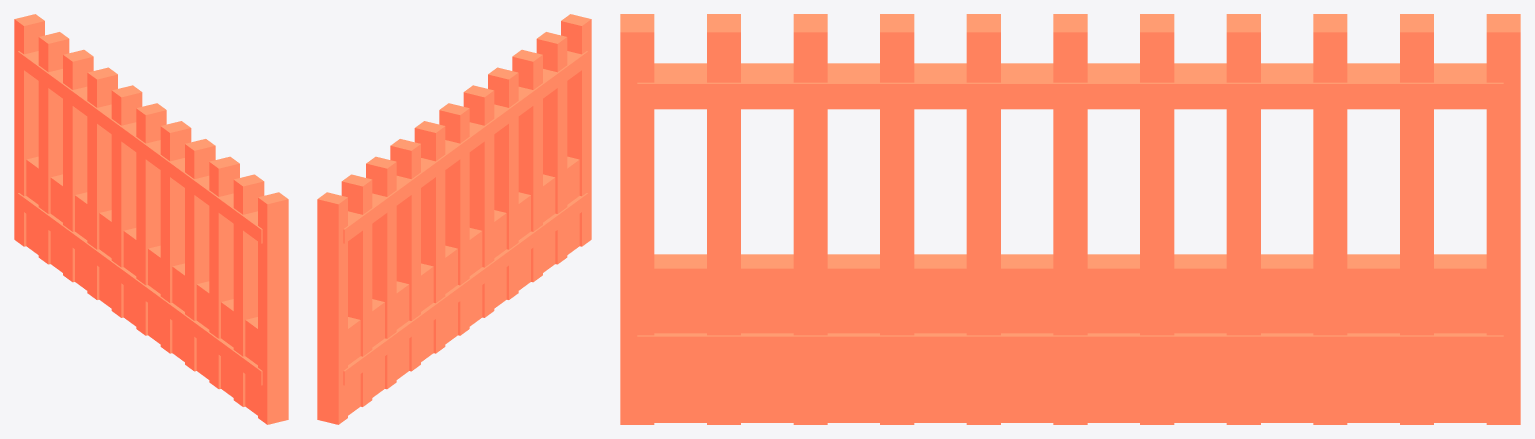
Rendered from SM_R02B_Gate_2_to_3.fbx.
3 views of the same model, side by side, from view 1: azimuth 30°, elevation 25°; view 2: azimuth 150°, elevation 25°; view 3: azimuth 270°, elevation 25° (orthographic). The views are drawn at different scales.
Parts seen in each view (by area): view 1: SM_R02B_Gate_2_to_3; view 2: SM_R02B_Gate_2_to_3; view 3: SM_R02B_Gate_2_to_3.
Boxes of the visible parts, left/top/right/bottom form: SM_R02B_Gate_2_to_3: left=14, top=14, right=288, bottom=424; SM_R02B_Gate_2_to_3: left=317, top=14, right=591, bottom=424; SM_R02B_Gate_2_to_3: left=620, top=14, right=1520, bottom=424.
Size of the model in its own units: 0.32 by 5.82 by 2.8.
